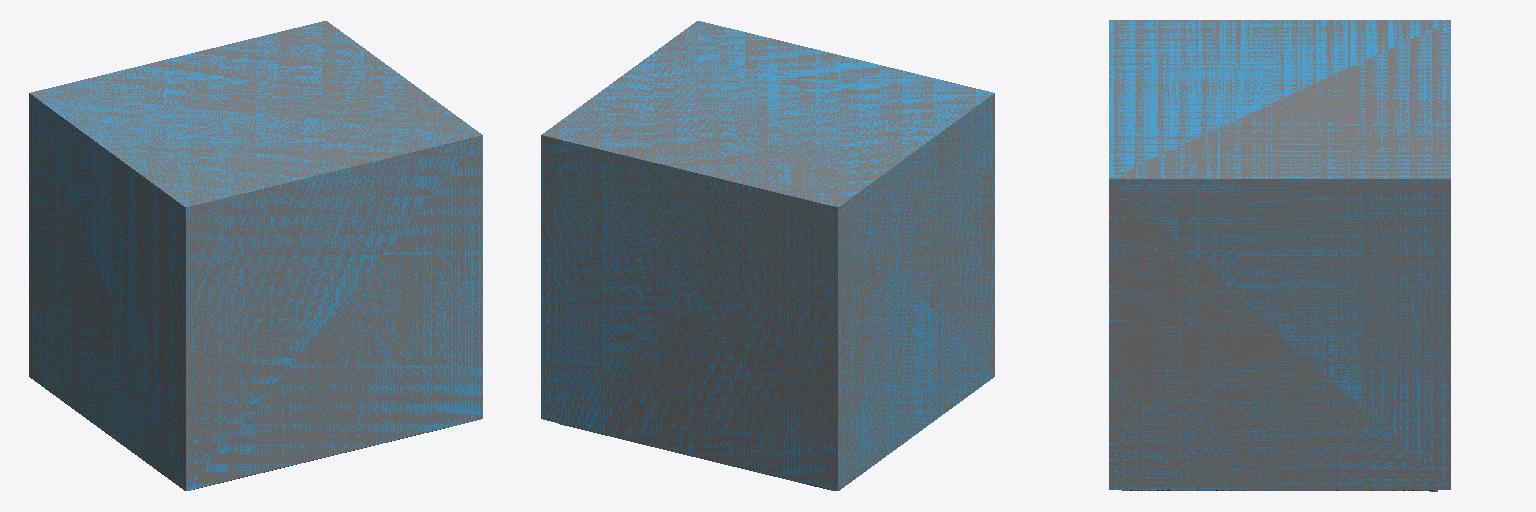
URDF robot description (right-pull-door):
<?xml version="1.0" ?>
<robot name="right-pull-door">
	<link name="base"/>
	<link name="link_0">
		<visual name="out-frame">
			<origin xyz="0 0 0"/>
			<geometry>
				<mesh filename="texture_dae/frame.dae" scale="0.25 0.25 0.25"/>
			</geometry>
		</visual>
		<collision>
			<origin xyz="0 0 0"/>
			<geometry>
				<mesh filename="texture_dae/frame.dae" scale="0.25 0.25 0.25"/>
			</geometry>
		</collision>
	</link>
	<joint name="joint_0" type="fixed">
		<origin rpy="1.570796326794897 0 -1.570796326794897" xyz="0 0 0"/>
		<child link="link_0"/>
		<parent link="base"/>
	</joint>
	<link name="link_1">
		<visual name="surf-board">
			<origin xyz="0.24938794880209883 0 0"/>
			<geometry>
				<mesh filename="texture_dae/board.dae" scale="0.25 0.25 0.25"/>
			</geometry>
		</visual>
		<collision>
			<origin xyz="0.24938794880209883 0 0"/>
			<geometry>
				<mesh filename="texture_dae/board.dae" scale="0.25 0.25 0.25"/>
			</geometry>
		</collision>
	</link>
	<joint name="joint_1" type="revolute">
		<origin xyz="-0.24938794880209883 0 0"/>
		<axis xyz="0 -1 0"/>
		<child link="link_1"/>
		<parent link="link_0"/>
		<limit lower="0" upper="1.5079644737231006"/>
	</joint>
	<link name="link_2">
		<visual name="handle">
			<origin xyz="0 0 0"/>
			<geometry>
				<mesh filename="texture_dae/9961229.dae" scale="0.1 0.1 0.1"/>
			</geometry>
		</visual>
		<collision>
			<origin xyz="0 0 0"/>
			<geometry>
				<mesh filename="texture_dae/9961229.dae" scale="0.1 0.1 0.1"/>
			</geometry>
		</collision>
	</link>
	<joint name="joint_2" type="revolute">
		<origin xyz="0.24938794880209883 0 0.02924961288422984"/>
		<child link="link_2"/>
		<parent link="link_1"/>
		<axis xyz="0 0 1"/>
		<limit lower="0" upper="1.5079644737231006"/>
	</joint>
</robot>

--- Facts derived from the render (not from the file) ---
Views: 3 orthographic renders of the robot side by side, from view 1: azimuth 30°, elevation 25°; view 2: azimuth 150°, elevation 25°; view 3: azimuth 270°, elevation 25°.
Model right-pull-door with 4 links and 3 joints (2 revolute, 1 fixed), rooted at base, posed every joint at zero.
Visible links, largest first — view 1: link_0; view 2: link_0; view 3: link_0.
Link boxes in pixels (x1,y1,x2,y2): link_0: (29,21,482,490); link_0: (541,21,994,490); link_0: (1109,20,1450,489).
Size in the robot's own frame: 0.593 by 0.5413 by 0.6087 metres.
Meshes: 3 distinct files referenced, 3 mesh visuals loaded (3 Collada DAE).
